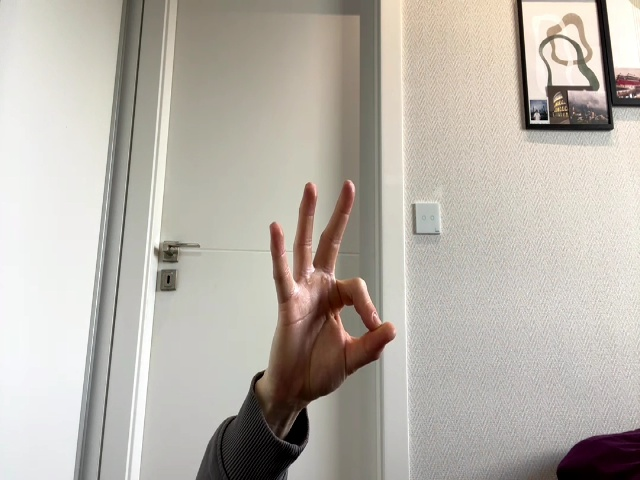O: (269, 180, 396, 388)
